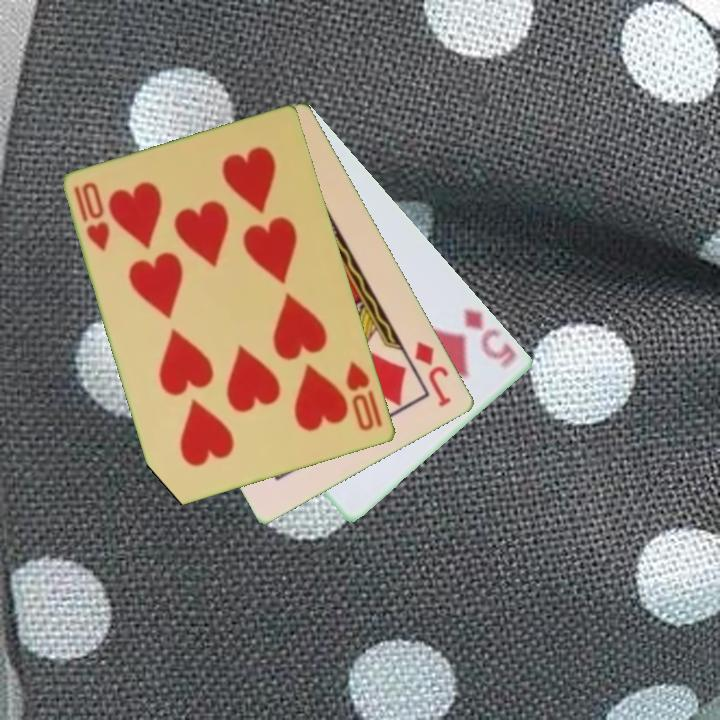10h: (343, 357, 386, 434), (71, 179, 114, 255)
5d: (461, 304, 520, 372)
Jd: (411, 338, 456, 410)
